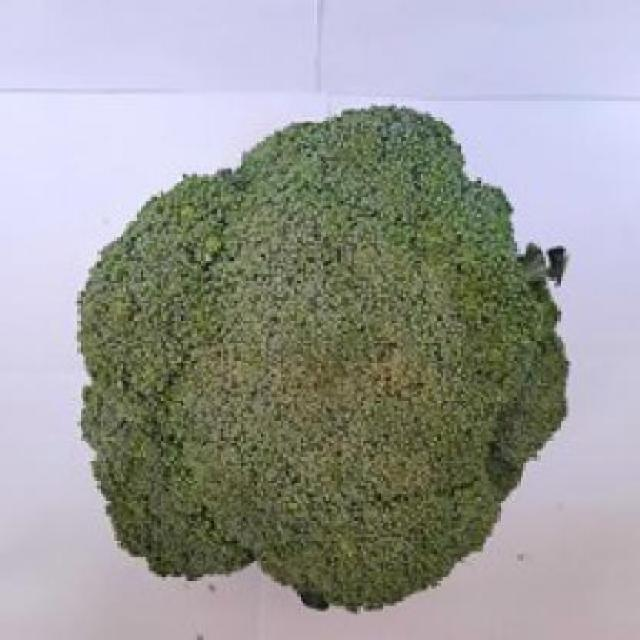broccoli: (71, 105, 574, 618)
